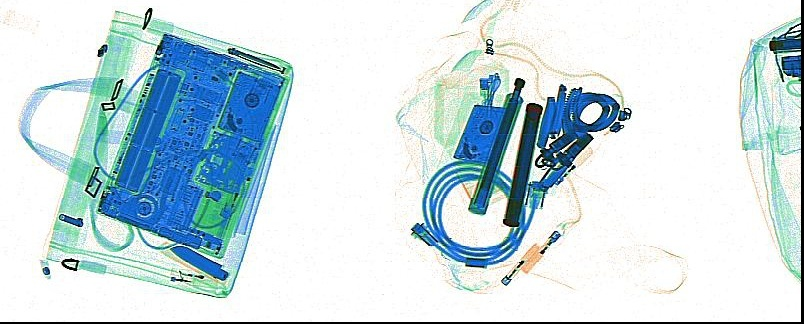handcuffs: (532, 83, 617, 168)
knife: (160, 242, 229, 283), (534, 147, 573, 192), (226, 46, 285, 74), (534, 95, 555, 148), (546, 83, 564, 138)
lighter: (520, 229, 561, 274), (499, 243, 537, 283)
